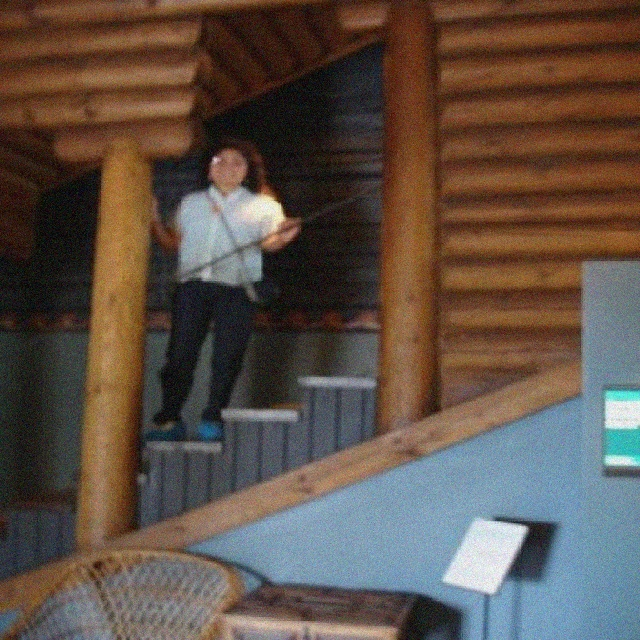stair: (0, 374, 380, 581)
